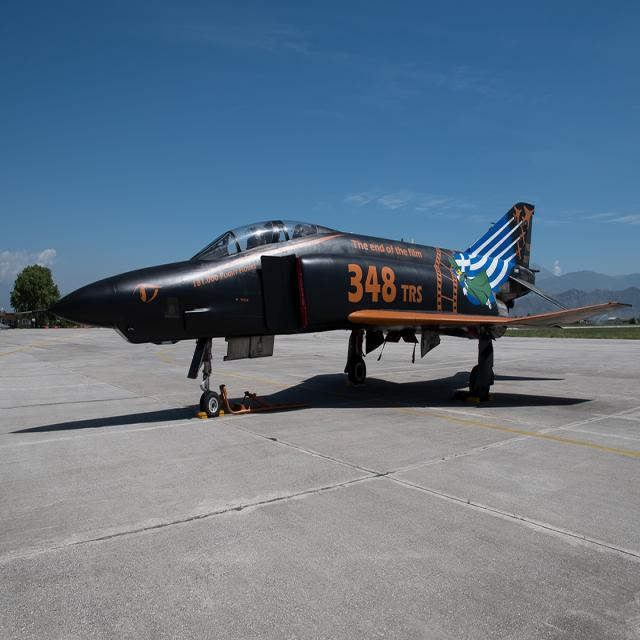MIL_Plane: (3, 200, 633, 418)
